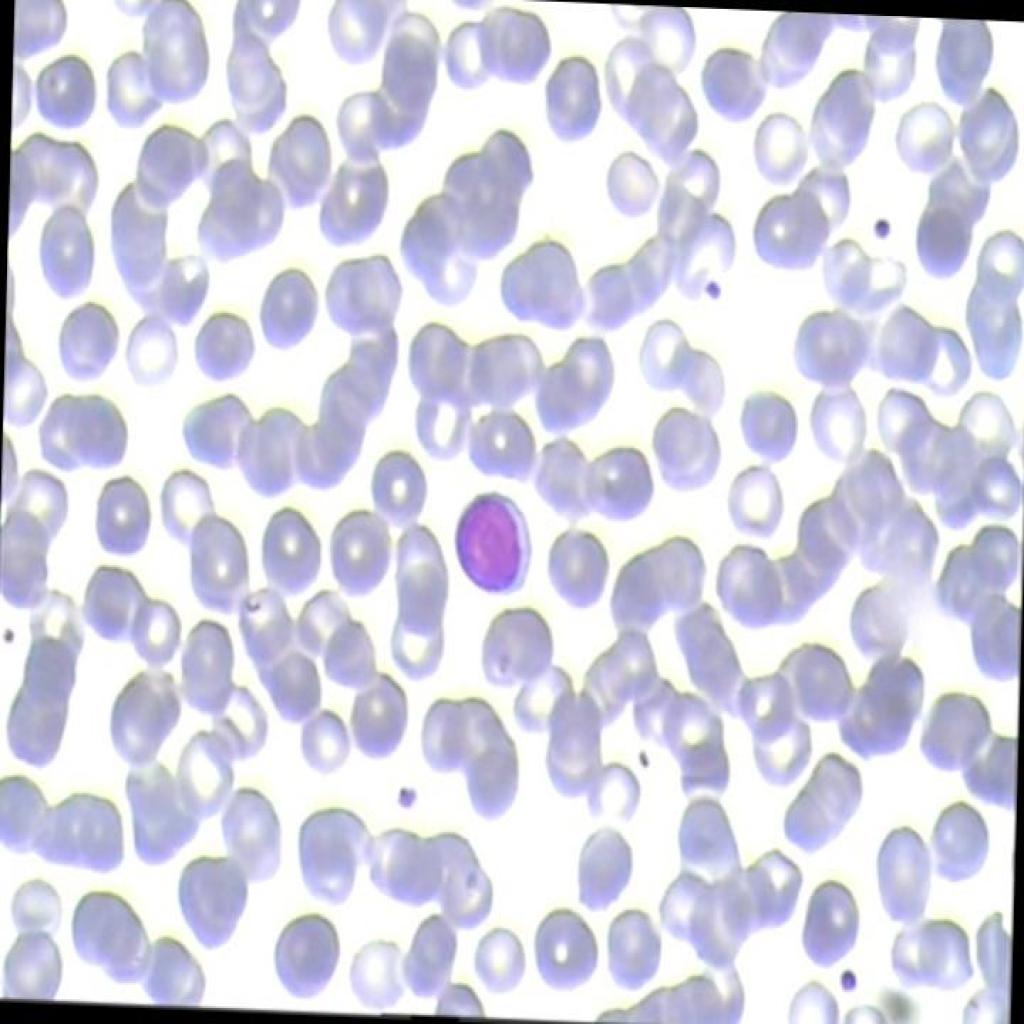Limfosit: (435, 480, 535, 608)
Platelet: (820, 951, 862, 1005), (386, 772, 426, 820), (692, 258, 726, 314), (866, 203, 895, 249), (0, 616, 18, 654)
